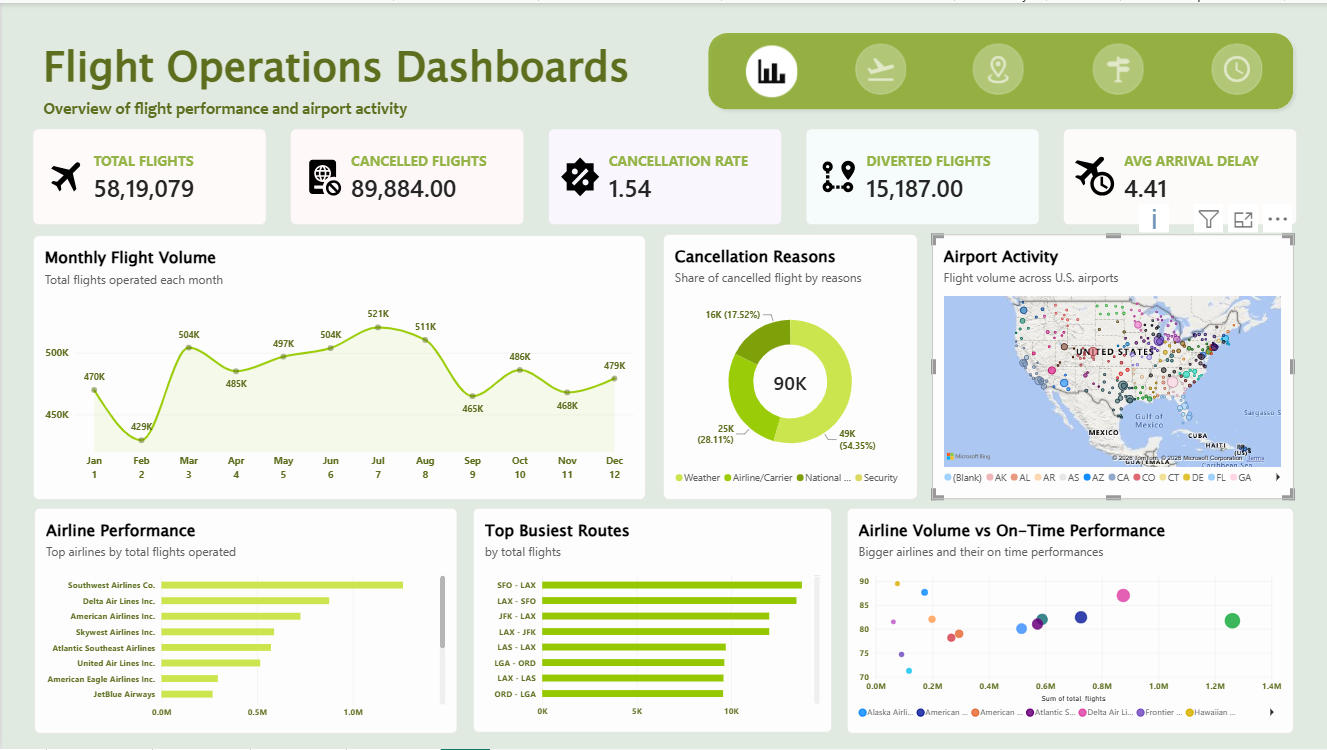

The page's visual inventory and layout, read from the dashboard file:
{"tool":"powerbi","page":{"name":"Home","canvas":[1920,1080],"ordinal":0},"visuals":[{"type":"shape","box":[1013.8,33.8,865,128.8],"z":0},{"type":"group","id":"g1","title":"Group_nav_inactive","box":[1023.3,47.7,840,98.6],"z":1000},{"type":"actionButton","title":"delay","box":[1715.3,48.3,148,98],"z":1500,"group":"g1"},{"type":"actionButton","title":"Route","box":[1542.3,48.3,148,98],"z":2000,"group":"g1"},{"type":"group","id":"g2","title":"Group_nav_active","box":[1045,50.6,825,93.3],"z":2000},{"type":"actionButton","title":"airport","box":[1369.3,48.3,148,98],"z":3000,"group":"g1"},{"type":"cardVisual","fields":{"Data":["Sum(vw_kpi_overview.total_scheduled_flights)","Sum(vw_kpi_overview.cancelled_flights)","Sum(vw_kpi_overview.cancellation_rate_pct)","Sum(vw_kpi_overview.diverted_flights)","Sum(vw_kpi_overview.avg_arrival_delay_minutes)"]},"box":[32,170,1855.4,163.1],"z":3000},{"type":"actionButton","title":"airplane","box":[1198.9,48.3,148,98],"z":4000,"group":"g1"},{"type":"actionButton","title":"Dash_a","box":[1045,54.7,140,89.3],"z":4000,"group":"g2"},{"type":"lineChart","title":"Monthly Flight Volume","fields":{"Category":["vw_monthly_performance.month_number","vw_monthly_performance.month_name"],"Y":["Sum(vw_monthly_performance.total_flights)"]},"box":[46,336,886,382],"z":4000},{"type":"map","title":"Airport Activity","fields":{"Series":["vw_origin_airport_performance.origin_state"],"Size":["Sum(vw_origin_airport_performance.total_departures)"],"X":["vw_origin_airport_performance.origin_longitude"],"Y":["vw_origin_airport_performance.origin_latitude"]},"box":[1346.7,335.3,523.3,383.3],"z":5000},{"type":"clusteredBarChart","title":"Airline Performance","fields":{"Category":["vw_airline_performance.airline_name"],"Y":["Sum(vw_airline_performance.total_flights)"]},"box":[46.7,732,612,326],"z":6000},{"type":"clusteredBarChart","title":"Top Busiest Routes","fields":{"Category":["vw_route_performance.route_code"],"Y":["Sum(vw_route_performance.total_flights)"]},"box":[683,732,519,325],"z":7000},{"type":"scatterChart","title":"Airline Volume vs On-Time Performance","fields":{"Series":["vw_airline_performance.airline_name"],"Size":["Sum(vw_airline_performance.total_flights)"],"X":["Sum(vw_airline_performance.total_flights)"],"Y":["vw_airline_performance.on_time_rate_pct"]},"box":[1223.3,732,646.7,326.7],"z":8000},{"type":"donutChart","title":"Cancellation Reasons","fields":{"Category":["vw_cancellation_reason_by_airline.cancellation_reason_name"],"Y":["Sum(vw_cancellation_reason_by_airline.cancelled_flights)"]},"box":[957,335,368,384],"z":9000},{"type":"textbox","box":[60,48,900,102],"z":10000,"group":"g3"},{"type":"textbox","box":[60,136,855,34],"z":11000,"group":"g3"},{"type":"group","id":"g3","title":"Group 1","box":[60,48,900,122],"z":11001}]}

Visuals, with their boxes in screenshot pixels (x1, y1, x2, y2), scaled from the page's 1920x1080 canvas onto the 1327x750 screenshot:
shape: (x1=701, y1=23, x2=1299, y2=113)
"Group_nav_inactive" group: (x1=707, y1=33, x2=1288, y2=102)
"delay" actionButton: (x1=1186, y1=34, x2=1288, y2=102)
"Route" actionButton: (x1=1066, y1=34, x2=1168, y2=102)
"Group_nav_active" group: (x1=722, y1=35, x2=1292, y2=100)
"airport" actionButton: (x1=946, y1=34, x2=1049, y2=102)
cardVisual - Sum(vw_kpi_overview.total_scheduled_flights) x Sum(vw_kpi_overview.cancelled_flights): (x1=22, y1=118, x2=1304, y2=231)
"airplane" actionButton: (x1=829, y1=34, x2=931, y2=102)
"Dash_a" actionButton: (x1=722, y1=38, x2=819, y2=100)
"Monthly Flight Volume" lineChart: (x1=32, y1=233, x2=644, y2=499)
"Airport Activity" map: (x1=931, y1=233, x2=1292, y2=499)
"Airline Performance" clusteredBarChart: (x1=32, y1=508, x2=455, y2=735)
"Top Busiest Routes" clusteredBarChart: (x1=472, y1=508, x2=831, y2=734)
"Airline Volume vs On-Time Performance" scatterChart: (x1=845, y1=508, x2=1292, y2=735)
"Cancellation Reasons" donutChart: (x1=661, y1=233, x2=916, y2=499)
textbox: (x1=41, y1=33, x2=664, y2=104)
textbox: (x1=41, y1=94, x2=632, y2=118)
"Group 1" group: (x1=41, y1=33, x2=664, y2=118)
